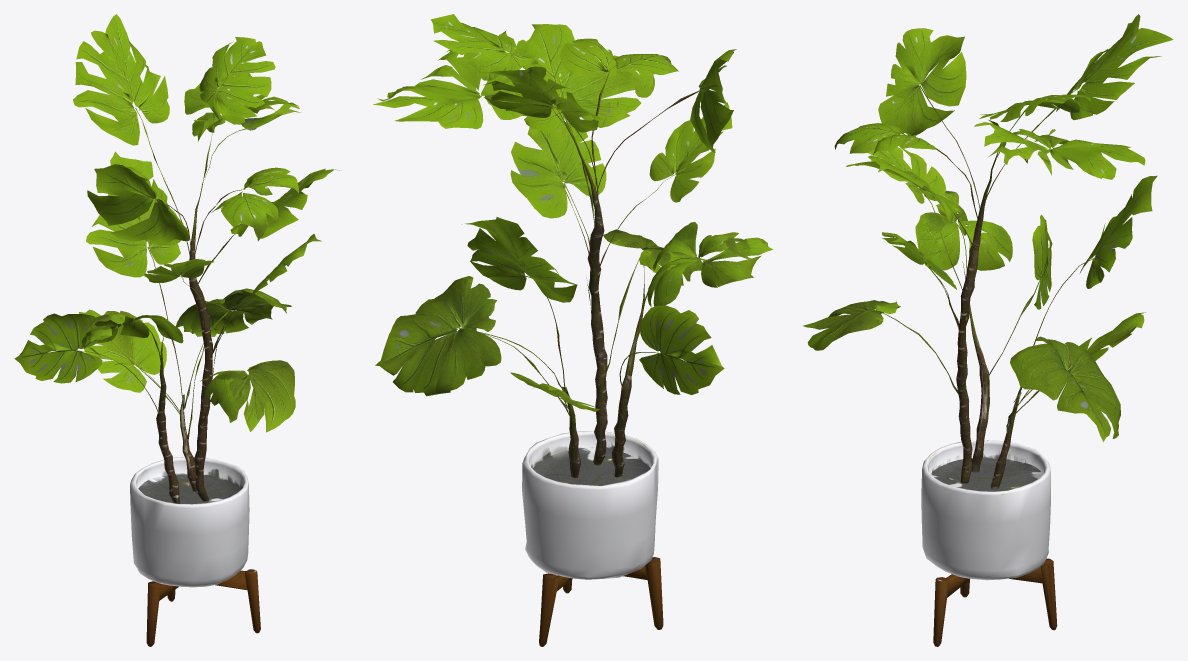
The model's file is plant1.min.glb.
The picture shows the model from 3 angles, left to right: view 1: azimuth 30°, elevation 25°; view 2: azimuth 150°, elevation 25°; view 3: azimuth 270°, elevation 25°; orthographic projection. The views are drawn at different scales.
Size of the model in its own units: 0.5146 by 0.9531 by 0.5401.
1 material, 1 textured.
